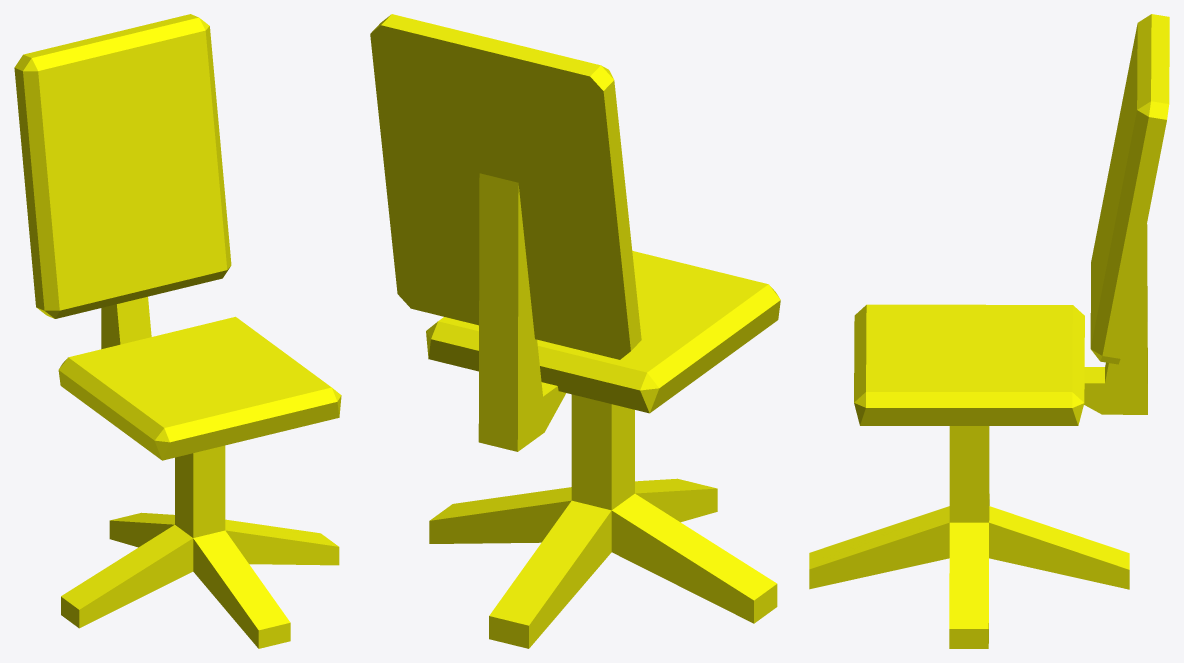
3 renders of one model, left to right at view 1: azimuth 30°, elevation 25°; view 2: azimuth 150°, elevation 25°; view 3: azimuth 270°, elevation 25°, orthographic. The views are drawn at different scales.
Visible parts, largest first — view 1: office_chair; view 2: office_chair; view 3: office_chair.
Part boxes in pixels (x1,y1,x2,y2): office_chair: (14,14,341,648); office_chair: (370,14,780,648); office_chair: (809,14,1169,648).
Bounding box in the file's own units: 0.0049 × 0.00883 × 0.00551.
Materials: 1 (1 with a texture image).
